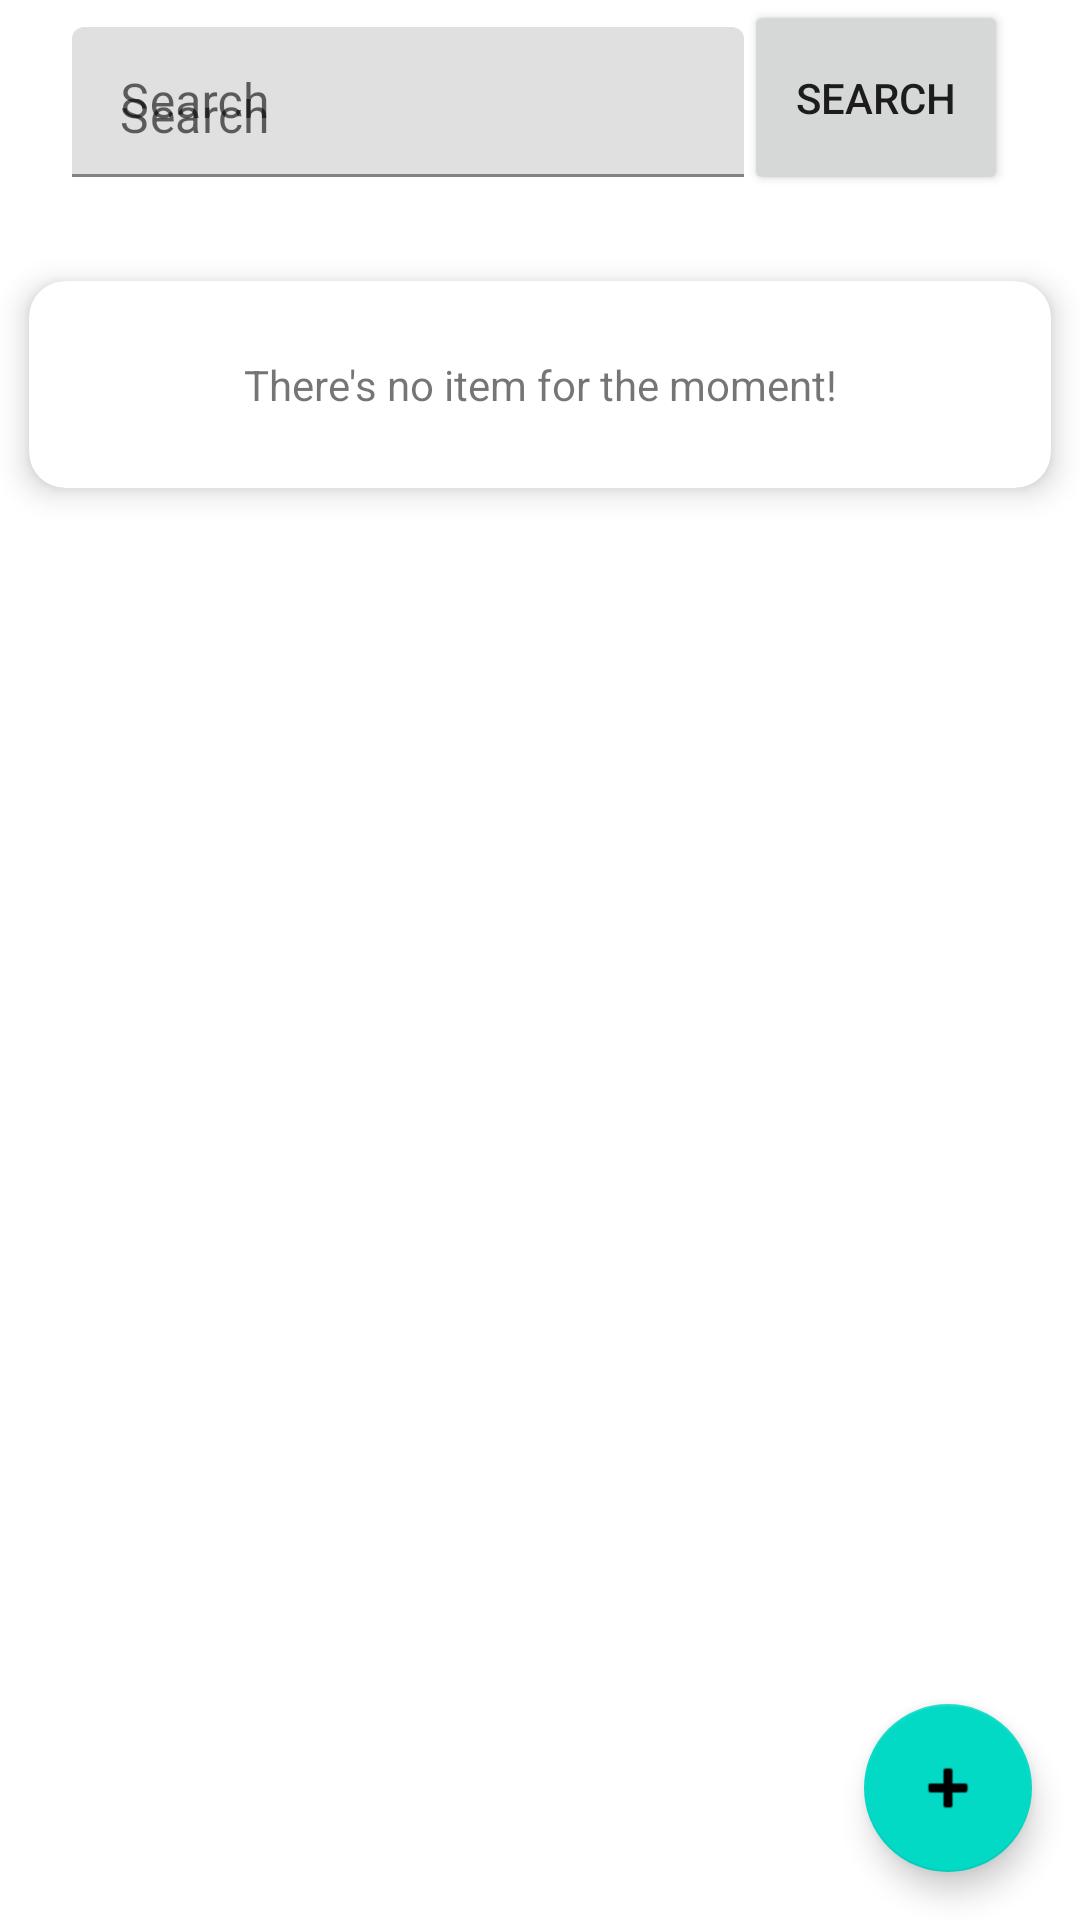

Named icons in this screenshot (1080px×1920px) and their bounding boxes, bbox(x1, y1, x2, y2):
Add new user: bbox(864, 1704, 1032, 1872)
